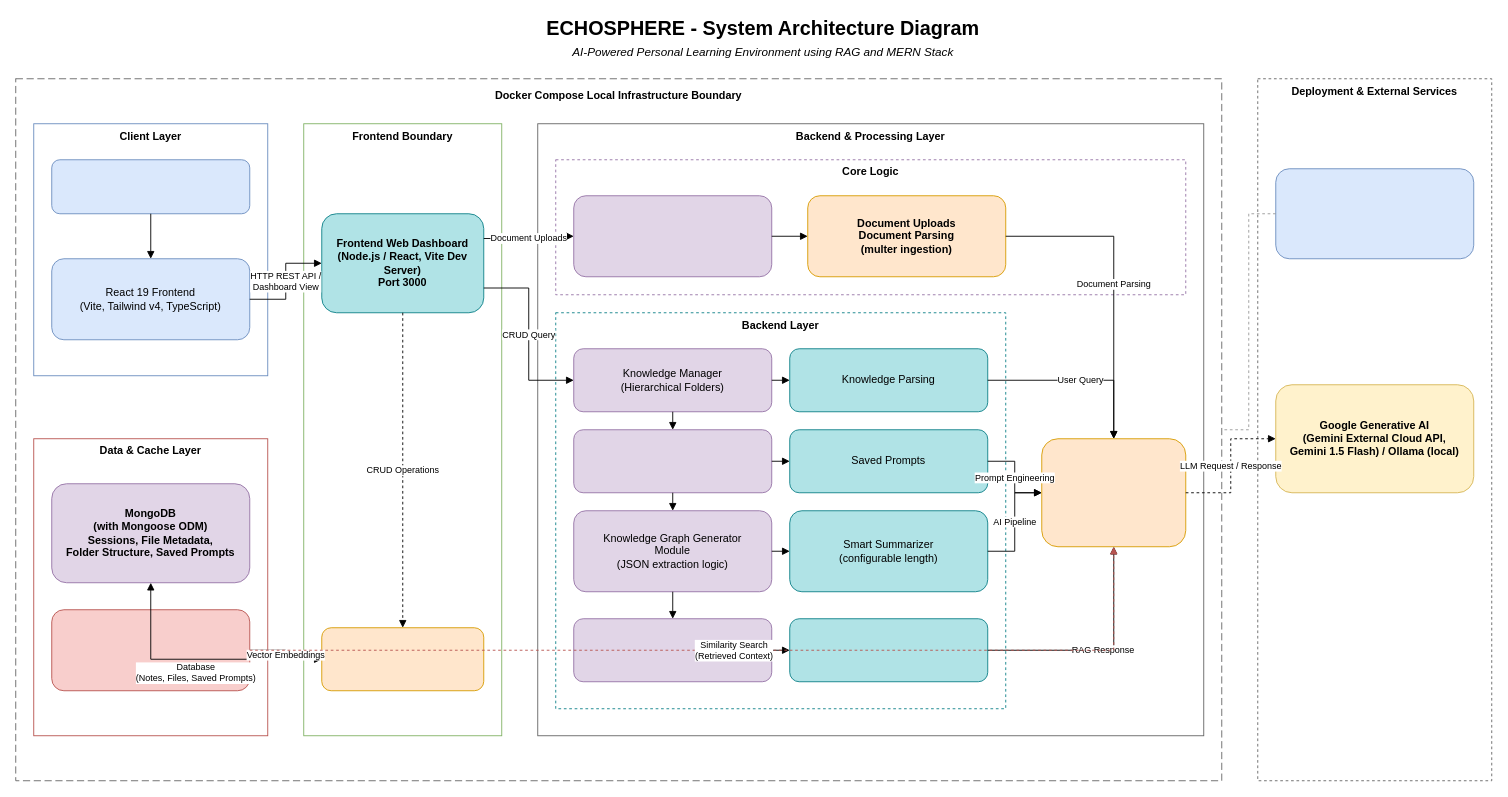
Some shapes in this 1508 by 797 pixel diagram are drawn without their labels. Each missing label, with the centre of its shape:
Backend Layer (Express.js API): (x=402, y=659)
Concept Explainer (Feynman technique): (x=888, y=650)
Docker Infrastructure docker-compose.yml (frontend + backend + mongo): (x=1374, y=213)
Document Processing & Text Extraction (pdf-parse, mammoth, cheerio): (x=672, y=236)
LanceDB (Vector Store) apache-arrow / embeddings: (x=150, y=650)
Prompt Engineering Module (RAG Text Injection): (x=1113, y=492)
Saved Prompts Manager: (x=672, y=461)
Smart Summarizer (concept-level): (x=672, y=650)
User Browser: (x=150, y=186)
